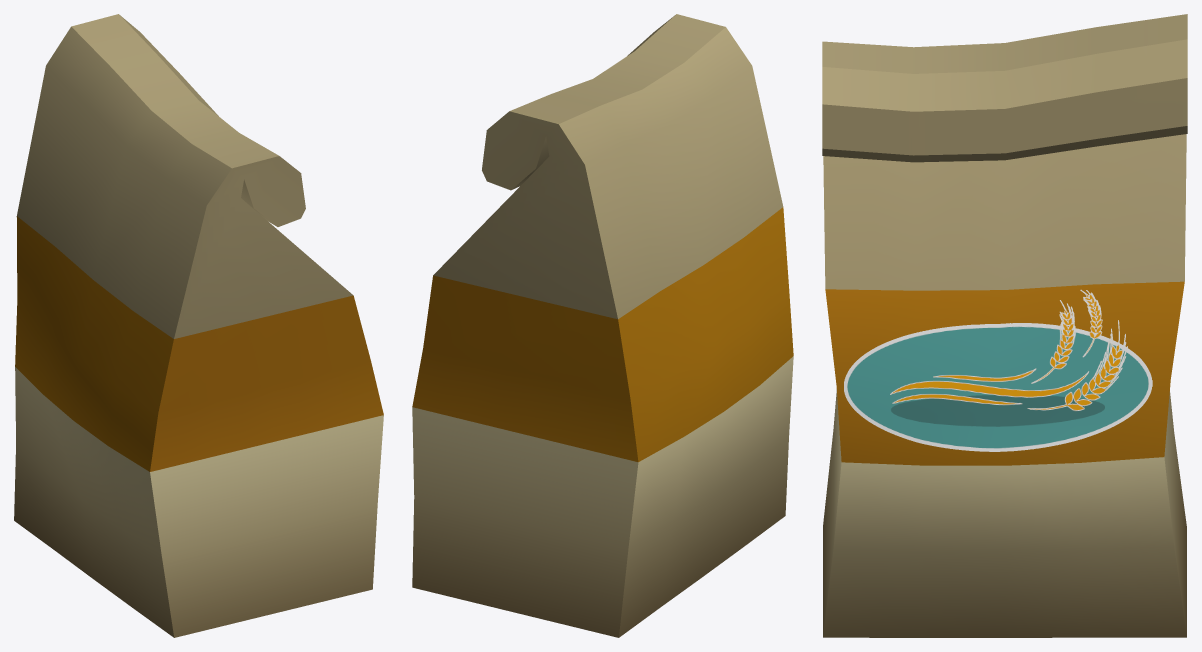
Rendered from 3D_Chopper_flour.fbx.
3 views of the same model, side by side, from view 1: azimuth 30°, elevation 25°; view 2: azimuth 150°, elevation 25°; view 3: azimuth 270°, elevation 25° (orthographic). The views are drawn at different scales.
Parts seen in each view (by area): view 1: 3D_Slicer_Choppy_flour; view 2: 3D_Slicer_Choppy_flour; view 3: 3D_Slicer_Choppy_flour.
Boxes of the visible parts, box(x1,y1,x2,y2) form: 3D_Slicer_Choppy_flour: box(14, 14, 383, 637); 3D_Slicer_Choppy_flour: box(412, 14, 793, 637); 3D_Slicer_Choppy_flour: box(822, 14, 1187, 637).
Bounding box in the file's own units: 46.93 × 88.09 × 53.39.
